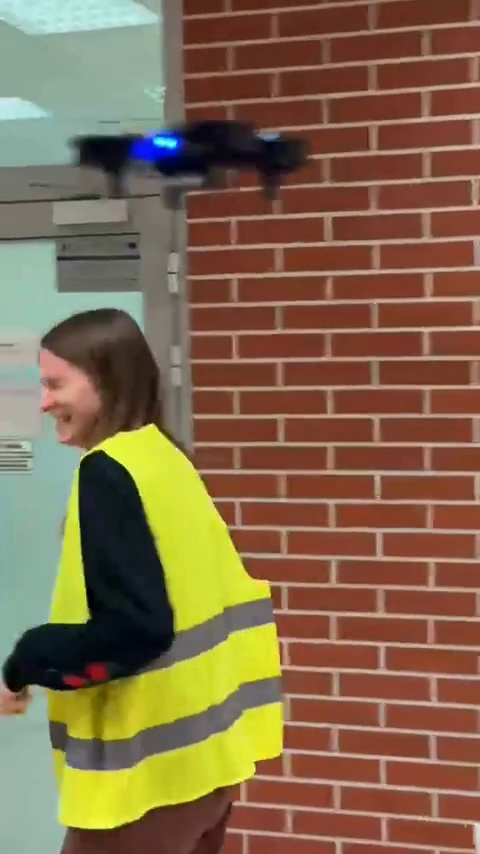drone: (71, 117, 313, 205)
vest: (2, 313, 288, 854)
